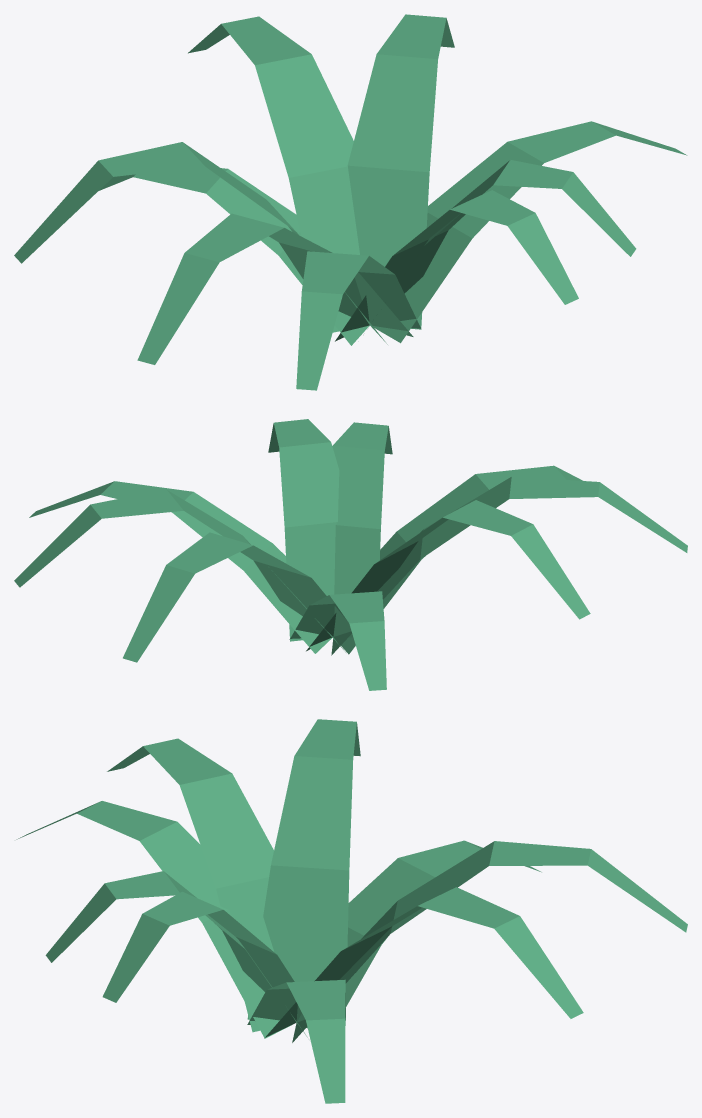
Rendered from Fern_B.glb.
3 renders of one model, top to bottom at view 1: azimuth 30°, elevation 25°; view 2: azimuth 150°, elevation 25°; view 3: azimuth 270°, elevation 25°, orthographic. The views are drawn at different scales.
Visible parts, largest first — view 1: Fern_B; view 2: Fern_B; view 3: Fern_B.
Part boxes in pixels (<box>): Fern_B: <box>14,14,687,390</box>; Fern_B: <box>14,419,687,690</box>; Fern_B: <box>16,719,687,1103</box>.
Bounding box in the file's own units: 1.45 × 0.4224 × 1.36.
